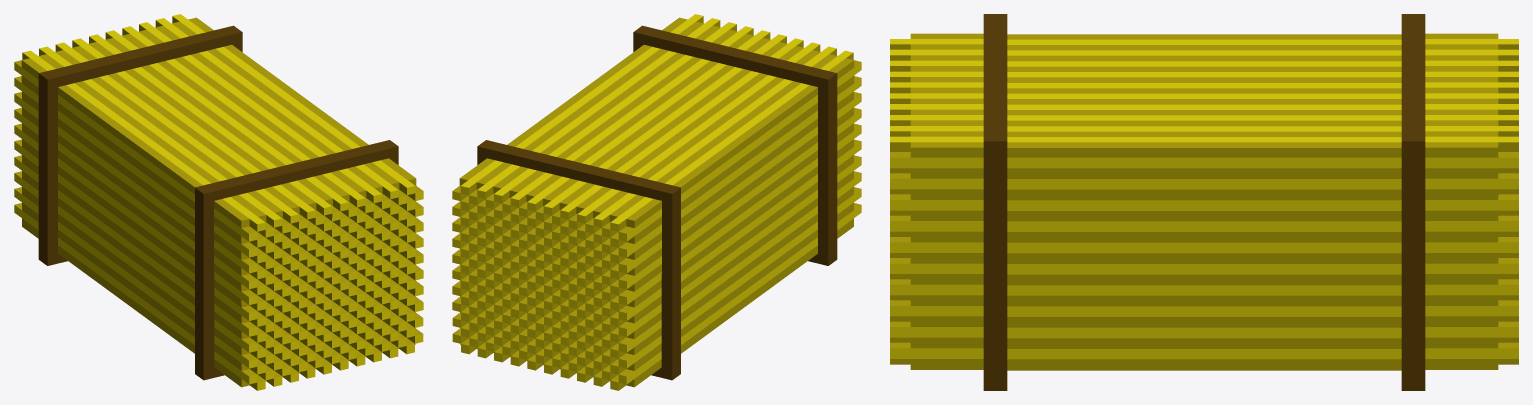
The model's file is snop sianad.fbx.
3 views of the same model, side by side, from view 1: azimuth 30°, elevation 25°; view 2: azimuth 150°, elevation 25°; view 3: azimuth 270°, elevation 25° (orthographic). The views are drawn at different scales.
Visible parts, largest first — view 1: Cube; view 2: Cube; view 3: Cube.
Boxes of the visible parts, left/top/right/bottom form: Cube: left=14, top=14, right=423, bottom=390; Cube: left=452, top=14, right=861, bottom=390; Cube: left=890, top=14, right=1518, bottom=390.
Bounding box in the file's own units: 492 × 449 × 1026.
